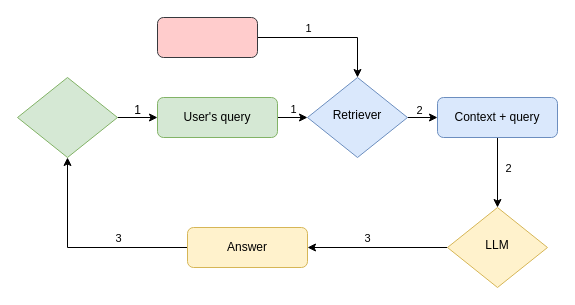
Some shapes in this 575 by 305 pixel diagram are drawn without their labels. The shapes that lost their labels are listed below. From the top down, each one's centre as x and y in pixels, then its label:
the point at 207,37: Documents
the point at 67,117: User
